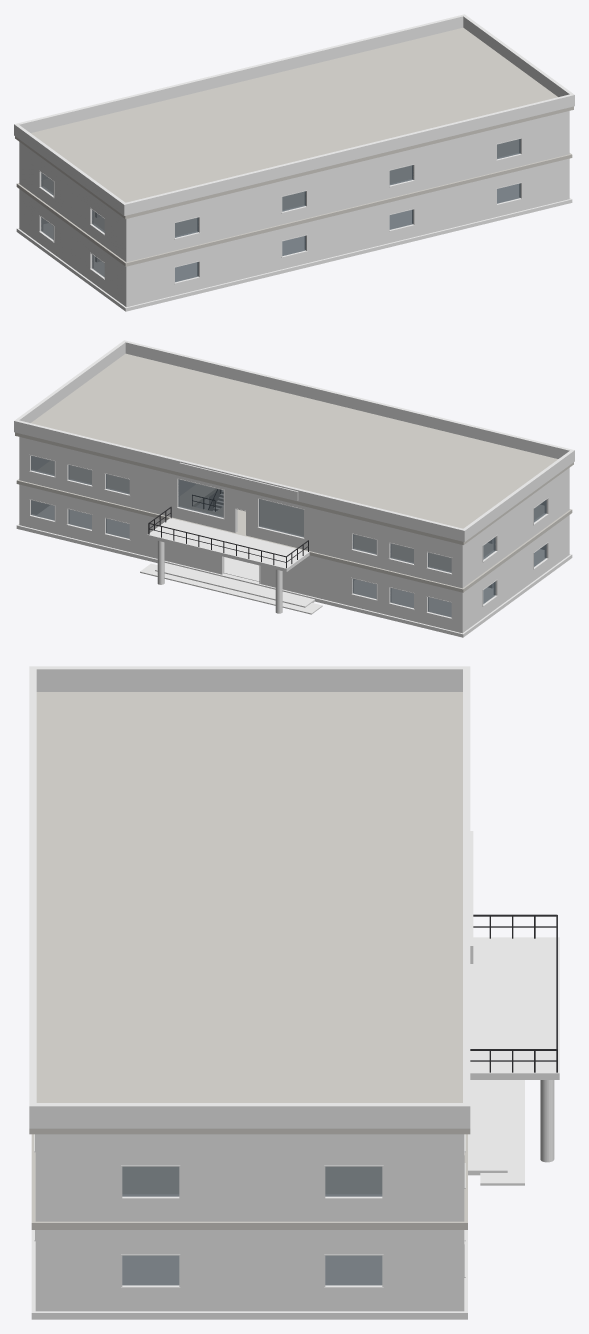
The model's file is campus_architecture.glb.
3 renders of one model, top to bottom at view 1: azimuth 30°, elevation 25°; view 2: azimuth 150°, elevation 25°; view 3: azimuth 270°, elevation 25°, orthographic. The views are drawn at different scales.
Visible parts, largest first — view 1: Roof_Main, Wall_1_Back, Wall_G_Back, Parapet_Back, Parapet_Front, Wall_1_Left, Wall_G_Left, Bld_Plinth, Slab_Floor_1_West, Parapet_Left, Parapet_Right, Bld_Floor_G (+1 smaller); view 2: Roof_Main, Wall_1_Front, Wall_G_Front, Parapet_Back, Parapet_Front, Slab_Floor_1_West, Wall_1_Left, Wall_G_Left, Canopy_Roof, Bld_Floor_G, Bld_Plinth, Slab_Floor_1_East (+8 smaller); view 3: Roof_Main, Wall_1_Right, Wall_G_Right, Canopy_Roof, Parapet_Right, Parapet_Left, Slab_Floor_1_East, Bld_Plinth, Parapet_Front, Parapet_Back, Bld_Steps_1, Bld_Floor_G (+7 smaller).
Part boxes in pixels (bbox=[...]): Roof_Main: bbox=[15, 27, 573, 218]; Wall_1_Back: bbox=[124, 111, 569, 262]; Wall_G_Back: bbox=[124, 158, 569, 307]; Parapet_Back: bbox=[122, 94, 574, 215]; Parapet_Front: bbox=[14, 14, 465, 135]; Wall_1_Left: bbox=[21, 143, 124, 260]; Wall_G_Left: bbox=[21, 190, 124, 305]; Bld_Plinth: bbox=[16, 198, 572, 311]; Slab_Floor_1_West: bbox=[16, 179, 390, 266]; Parapet_Left: bbox=[14, 124, 125, 214]; Parapet_Right: bbox=[463, 14, 572, 96]; Bld_Floor_G: bbox=[43, 184, 518, 280]; Roof_Main: bbox=[15, 353, 573, 544]; Wall_1_Front: bbox=[19, 437, 464, 588]; Wall_G_Front: bbox=[19, 484, 464, 633]; Parapet_Back: bbox=[123, 340, 574, 462]; Parapet_Front: bbox=[14, 419, 466, 541]; Slab_Floor_1_West: bbox=[198, 499, 572, 592]; Wall_1_Left: bbox=[464, 469, 567, 586]; Wall_G_Left: bbox=[464, 516, 567, 631]; Canopy_Roof: bbox=[147, 518, 309, 571]; Bld_Floor_G: bbox=[37, 505, 544, 615]; Bld_Plinth: bbox=[16, 524, 572, 637]; Slab_Floor_1_East: bbox=[16, 461, 218, 520]; Roof_Main: bbox=[29, 692, 470, 1134]; Wall_1_Right: bbox=[43, 1134, 456, 1221]; Wall_G_Right: bbox=[43, 1230, 456, 1311]; Canopy_Roof: bbox=[470, 937, 559, 1079]; Parapet_Right: bbox=[31, 1103, 467, 1128]; Parapet_Left: bbox=[31, 666, 467, 691]; Slab_Floor_1_East: bbox=[31, 1134, 467, 1229]; Bld_Plinth: bbox=[31, 1230, 467, 1319]; Parapet_Front: bbox=[463, 666, 470, 1128]; Parapet_Back: bbox=[29, 666, 36, 1128]; Bld_Steps_1: bbox=[468, 1080, 507, 1175]; Bld_Floor_G: bbox=[122, 1256, 381, 1282].
Bounding box in the file's own units: 42 × 9.6 × 21.4.
